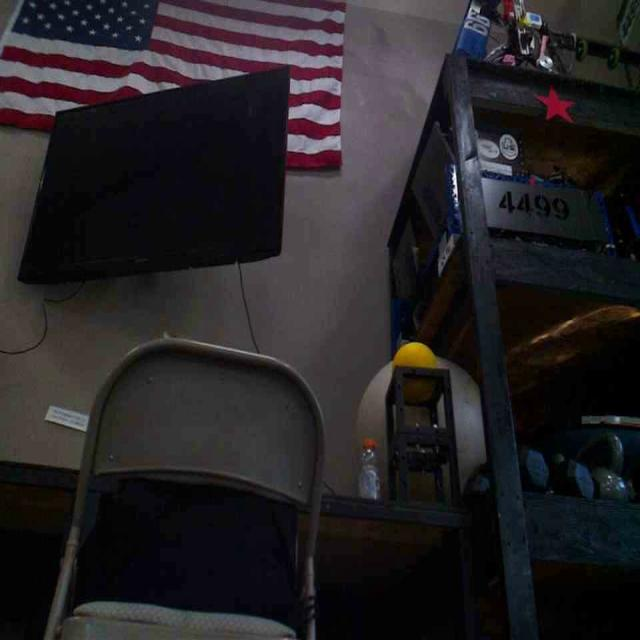star_red: (536, 84, 574, 118)
